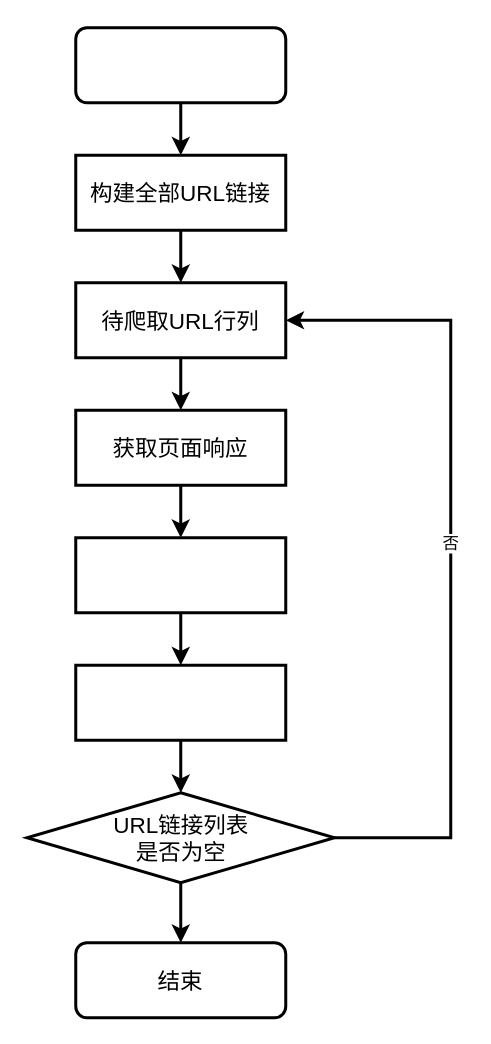
This 491x1044 diagram has some shape labels left out. The shapes that lost their labels are listed below. From the top down, each one's centre as x and y in pixels, then its label:
At [180,65]: "爬虫程序".
At [180,575]: "页面爬取".
At [180,702]: "解析页面获取内容".
